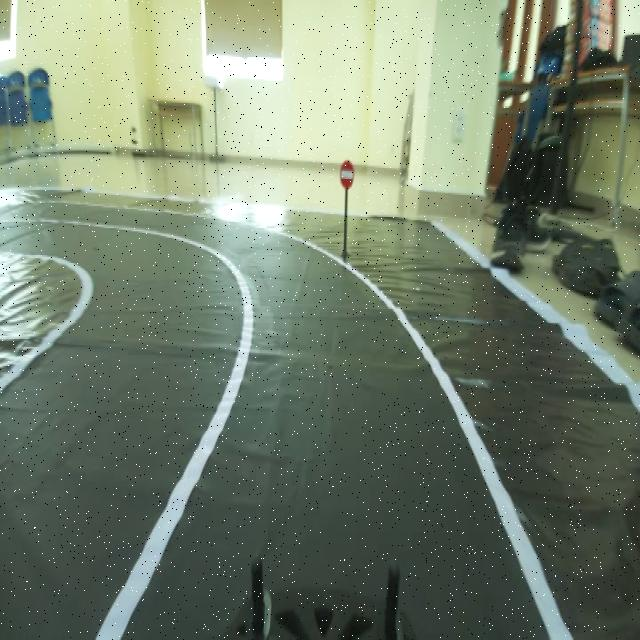no_entry: (337, 158, 355, 189)
